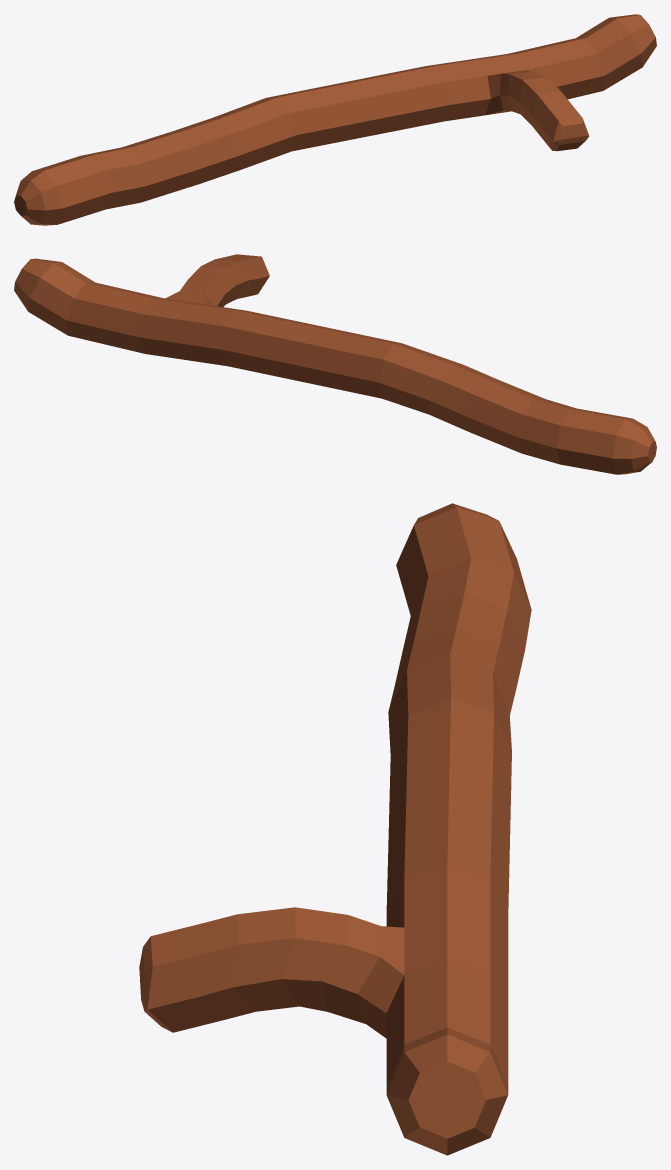
The model's file is Wooden_Stick.fbx.
3 views of the same model, one above another, from view 1: azimuth 30°, elevation 25°; view 2: azimuth 150°, elevation 25°; view 3: azimuth 270°, elevation 25° (orthographic). The views are drawn at different scales.
Parts seen in each view (by area): view 1: Wooden Stick; view 2: Wooden Stick; view 3: Wooden Stick.
Part boxes in pixels (x1,y1,x2,y2): Wooden Stick: [14, 14, 656, 225]; Wooden Stick: [14, 254, 656, 474]; Wooden Stick: [139, 503, 531, 1155].
Size of the model in its own units: 914 by 101 by 246.
